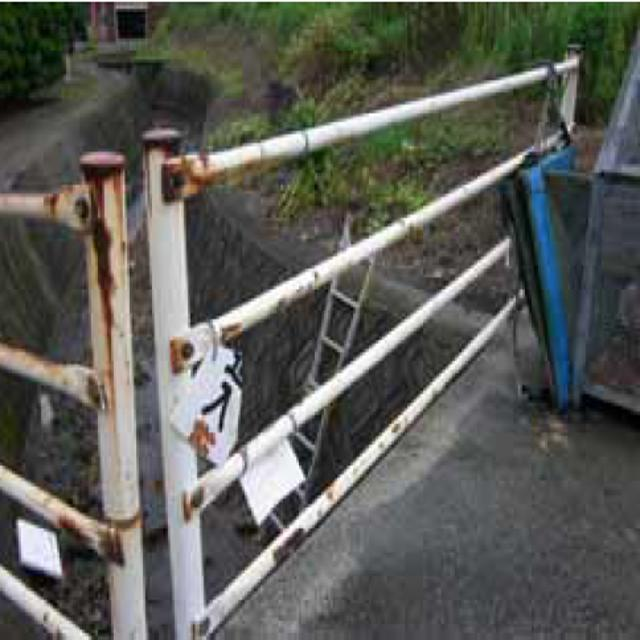corrosion: (57, 113, 216, 611)
